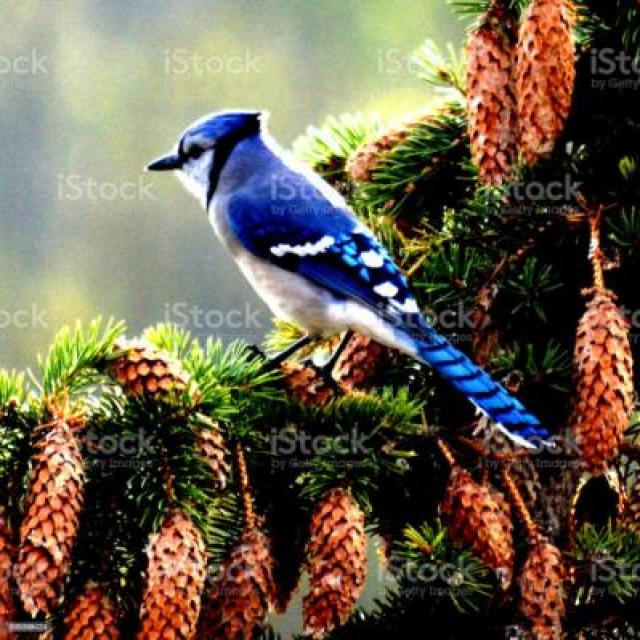birds: (117, 92, 585, 480)
